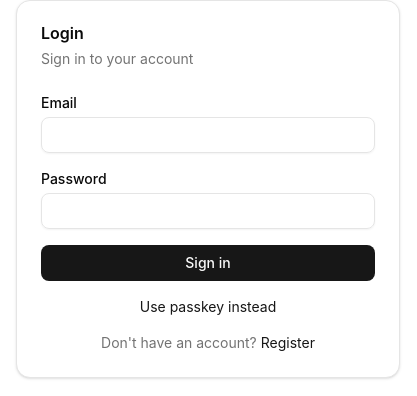
Test: LoginForm › can switch to passkey mode
This screenshot has width=417, height=396.
Click the button "Use passkey instead" at (208, 307), box [140,297,276,317]
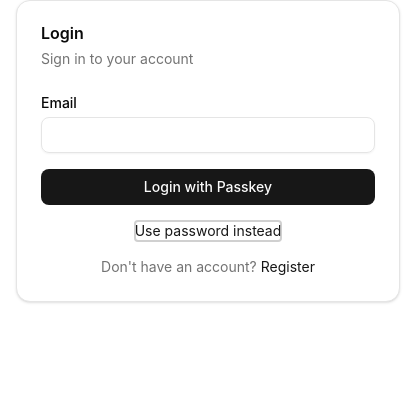
expect the button "Login with Passkey" is shown: met, box [41,169,375,205]
